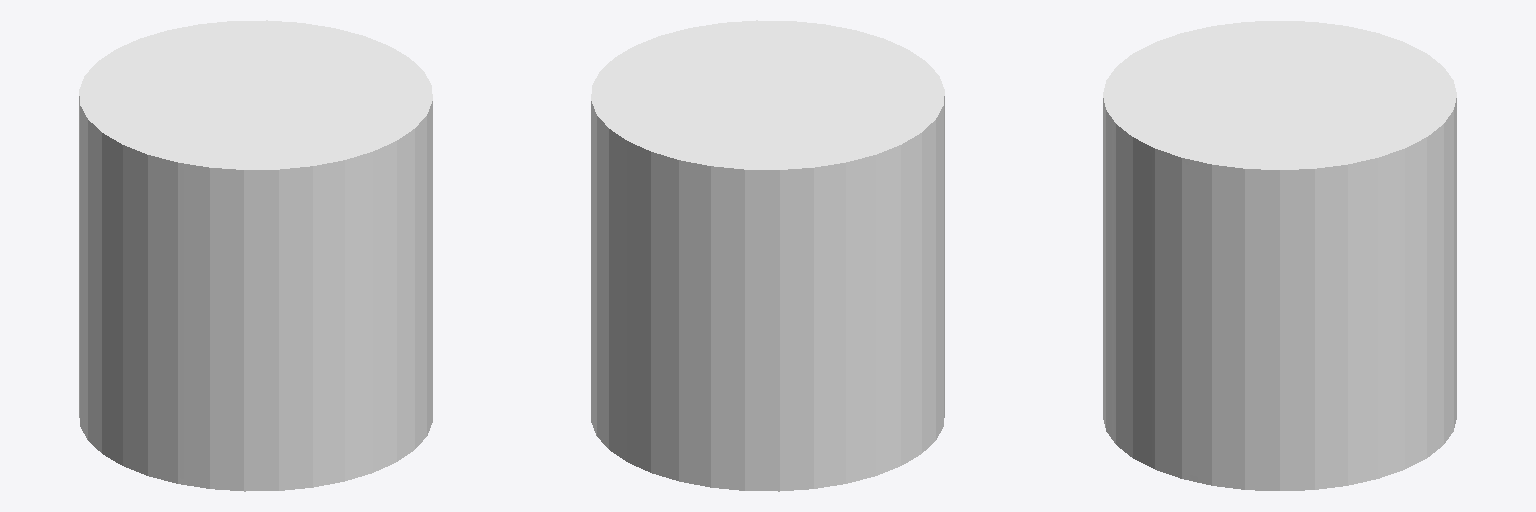
URDF robot description (custom):
<?xml version="1.0"?>
<robot name="custom">
  <material name="Blanc">
    <color rgba="1.0 1.0 1.0 1.0"/>
  </material>
  <link name="base_link">
    <visual>
      <origin xyz="0 0 0" rpy="0 0 0"/>
      <geometry>
        <mesh filename="handoff_cylinder_small.obj" scale="1 1 1"/>
      </geometry>
      <material name="Blanc"/>
    </visual>
    <collision>
      <origin xyz="0 0 0" rpy="0 0 0"/>
      <geometry>
	 	     <mesh filename="handoff_cylinder_small.obj" scale="1 1 1"/>
      </geometry>
    </collision>
    <contact>
      <lateral_friction value="5.0"/>
      <rolling_friction value="0.0001"/>
      <inertia_scaling value="3.0"/>
    </contact>
    <inertial>
      <origin rpy="0 0 0" xyz="0 0 0"/>
       <mass value="0.05"/>
       <inertia ixx="1" ixy="0" ixz="0" iyy="1" iyz="0" izz="1"/>
    </inertial>
  </link>

</robot>

--- Render facts (derived) ---
3 views of the same robot in one strip: view 1: azimuth 30°, elevation 25°; view 2: azimuth 150°, elevation 25°; view 3: azimuth 270°, elevation 25° (orthographic).
Robot: custom — 1 links, 0 joints (none); root link base_link; default pose: all joints at 0.
Visible links, largest first — view 1: base_link; view 2: base_link; view 3: base_link.
Link boxes in pixels (left/top/right/bottom): base_link: left=79, top=20, right=432, bottom=491; base_link: left=591, top=20, right=944, bottom=491; base_link: left=1103, top=21, right=1456, bottom=490.
Size in the robot's own frame: 0.04 by 0.04 by 0.04 metres.
Meshes: 1 distinct files referenced, 1 mesh visuals loaded (1 OBJ).
